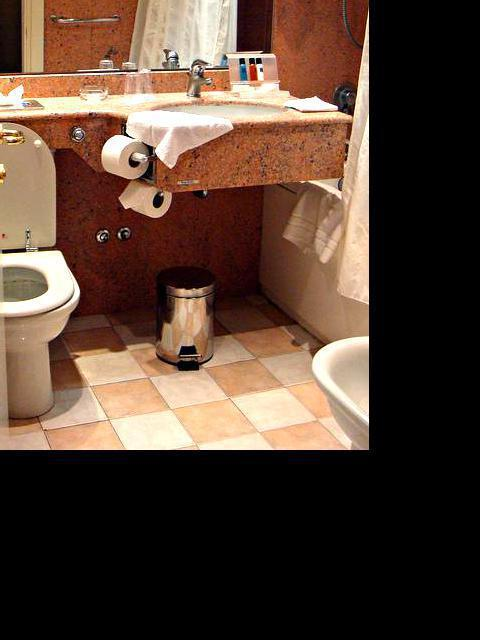Bote de Basura: (151, 260, 219, 372)
Lavamanos: (140, 56, 303, 137)
Sanitario: (0, 121, 80, 427)
